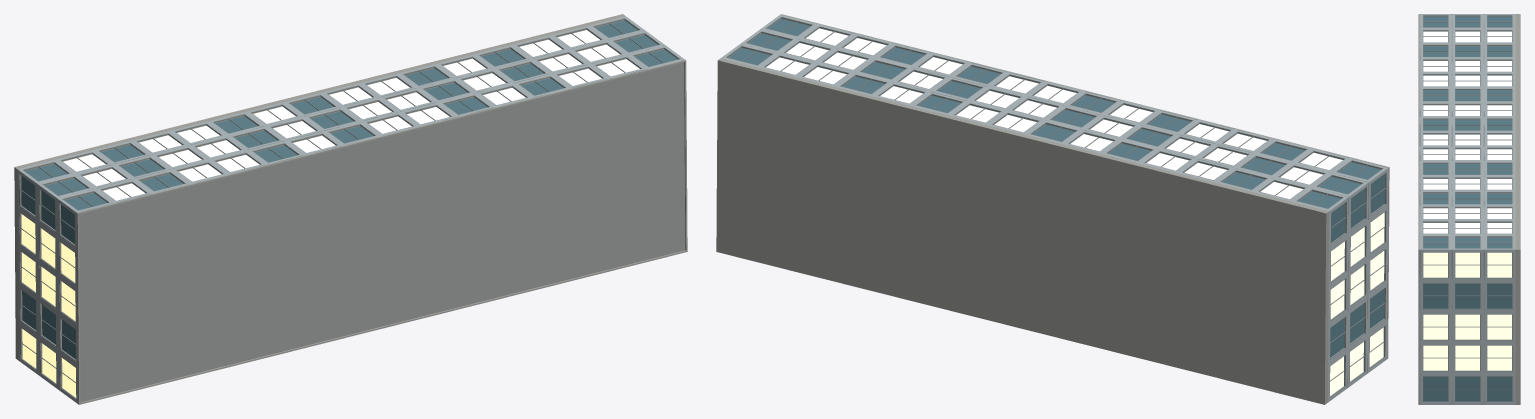
File: office-near.glb
3 views of the same model, side by side, from view 1: azimuth 30°, elevation 25°; view 2: azimuth 150°, elevation 25°; view 3: azimuth 270°, elevation 25° (orthographic). The views are drawn at different scales.
Parts seen in each view (by area): view 1: way/542782795; view 2: way/542782795; view 3: way/542782795.
Boxes of the visible parts, x1=… form: way/542782795: x1=14, y1=14, x2=687, y2=404; way/542782795: x1=716, y1=14, x2=1389, y2=404; way/542782795: x1=1418, y1=14, x2=1520, y2=404.
Size of the model in its own units: 70.91 by 21.83 by 12.76.
